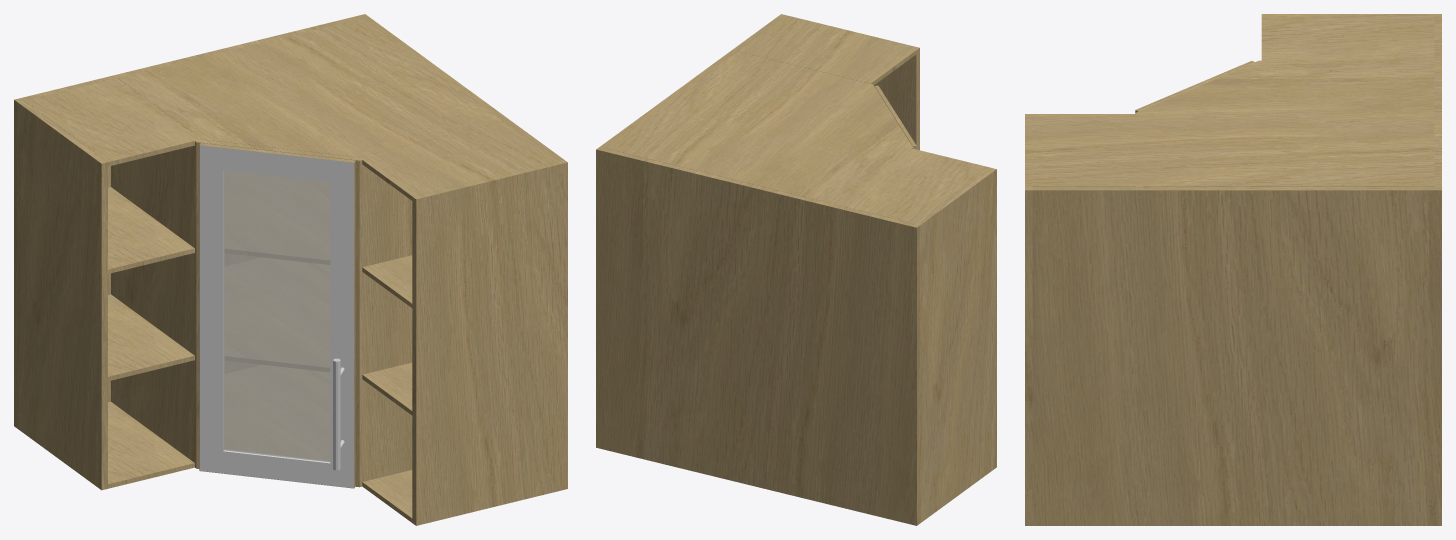
The model's file is b0-uppercornercabinet.glb.
3 views of the same model, side by side, from view 1: azimuth 30°, elevation 25°; view 2: azimuth 150°, elevation 25°; view 3: azimuth 270°, elevation 25° (orthographic). The views are drawn at different scales.
Visible parts, largest first — view 1: Cube.014_Cube.013; view 2: Cube.014_Cube.013; view 3: Cube.014_Cube.013.
Part boxes in pixels (x1,y1,x2,y2): Cube.014_Cube.013: [14, 14, 567, 525]; Cube.014_Cube.013: [596, 14, 996, 525]; Cube.014_Cube.013: [1025, 14, 1441, 525].
Size of the model in its own units: 0.81 by 0.72 by 0.81.
Materials: 4 (1 with a texture image).
